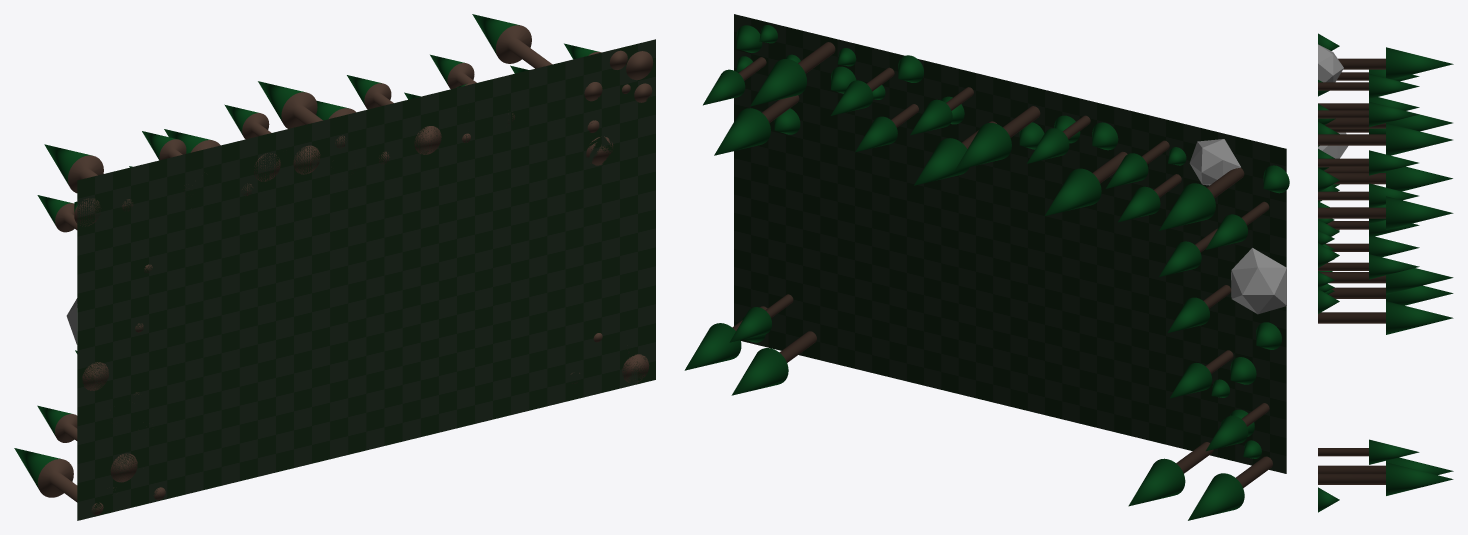
The model's file is forest11.dae.
The picture shows the model from 3 angles, left to right: view 1: azimuth 30°, elevation 25°; view 2: azimuth 150°, elevation 25°; view 3: azimuth 270°, elevation 25°; orthographic projection. The views are drawn at different scales.
Parts seen in each view (by area): view 1: Plane.037, Cone.2405, Cone.2417, Cone.2388, Cone.2380, Cone.2373, Cone.2385, Cone.2389, Cone.2407, Cone.2375, Cone.2379; view 2: Plane.037, Icosphere.059, Cone.2417, Cone.2411, Cone.2388, Cone.2405, Cone.2380, Cone.2386, Cone.2396, Cone.2384, Icosphere.060, Cone.2401 (+14 smaller); view 3: Cone.2386, Cone.2401, Cone.2405, Cone.2388, Cone.2380, Cone.2390, Cone.2396, Cone.2417, Cone.2389, Cone.2372, Cone.2379, Cone.2385 (+18 smaller).
Boxes of the visible parts, <box> form: Plane.037: <box>77,39,655,520</box>; Cone.2405: <box>472,14,552,68</box>; Cone.2417: <box>14,448,103,515</box>; Cone.2388: <box>258,81,346,148</box>; Cone.2380: <box>44,144,133,211</box>; Cone.2373: <box>37,405,77,442</box>; Cone.2385: <box>224,104,271,139</box>; Cone.2389: <box>347,75,393,109</box>; Cone.2407: <box>430,54,476,89</box>; Cone.2375: <box>37,195,77,232</box>; Cone.2379: <box>142,131,186,160</box>; Plane.037: <box>734,14,1286,473</box>; Icosphere.059: <box>1231,248,1286,314</box>; Cone.2417: <box>1188,456,1272,520</box>; Cone.2411: <box>731,331,816,395</box>; Cone.2388: <box>955,106,1040,170</box>; Cone.2405: <box>750,42,835,106</box>; Cone.2380: <box>1159,168,1244,230</box>; Cone.2386: <box>1128,442,1213,506</box>; Cone.2396: <box>714,95,799,155</box>; Cone.2384: <box>1045,151,1127,215</box>; Icosphere.060: <box>1189,139,1240,185</box>; Cone.2401: <box>684,306,767,370</box>; Cone.2386: <box>1318,301,1453,334</box>; Cone.2401: <box>1318,462,1453,495</box>; Cone.2405: <box>1318,196,1453,229</box>; Cone.2388: <box>1318,123,1452,155</box>; Cone.2380: <box>1338,47,1453,79</box>; Cone.2390: <box>1328,166,1452,191</box>; Cone.2396: <box>1319,268,1453,294</box>; Cone.2417: <box>1328,285,1453,305</box>; Cone.2389: <box>1318,150,1418,175</box>; Cone.2372: <box>1318,439,1419,464</box>; Cone.2379: <box>1318,74,1419,98</box>; Cone.2385: <box>1318,102,1419,126</box>.
Bounding box in the file's own units: 64.36 × 16 × 38.05.
